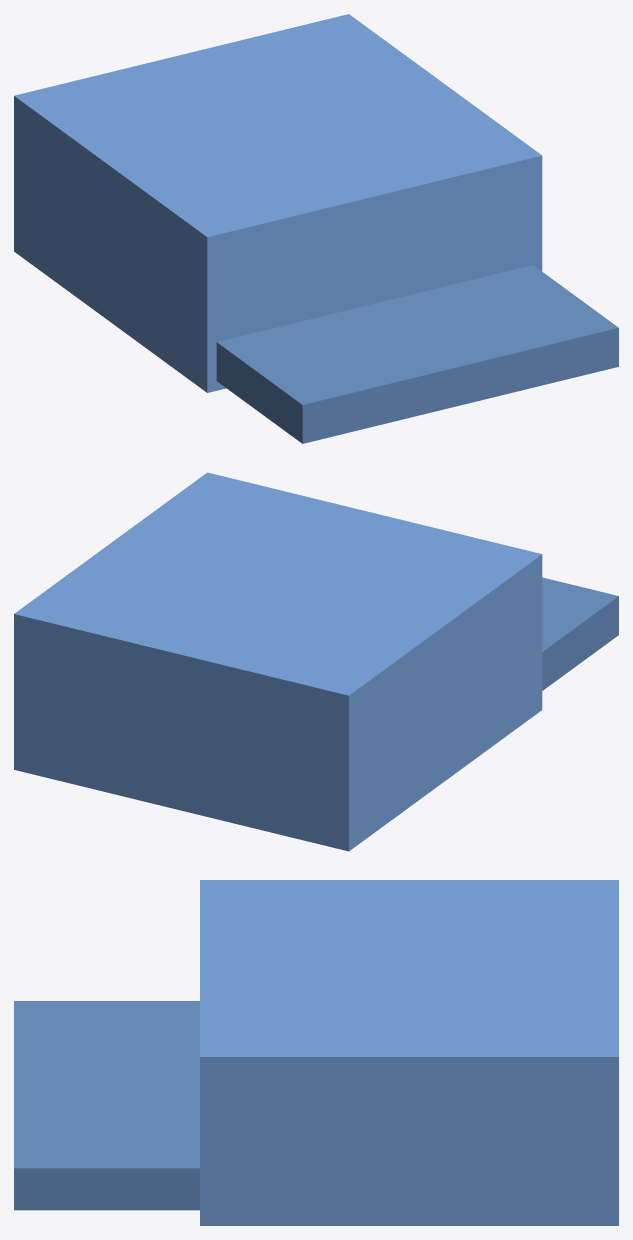
File: school-cap.glb
3 views of the same model, one above another, from view 1: azimuth 30°, elevation 25°; view 2: azimuth 150°, elevation 25°; view 3: azimuth 270°, elevation 25° (orthographic). The views are drawn at different scales.
Visible parts, largest first — view 1: CapDome, CapBrim; view 2: CapDome, CapBrim; view 3: CapDome, CapBrim.
Part boxes in pixels (<box>): CapDome: <box>14,14,542,392</box>; CapBrim: <box>216,265,618,443</box>; CapDome: <box>14,472,542,851</box>; CapBrim: <box>542,577,618,690</box>; CapDome: <box>200,880,618,1225</box>; CapBrim: <box>14,1001,199,1210</box>.
Bounding box in the file's own units: 0.36 × 0.16 × 0.52.
